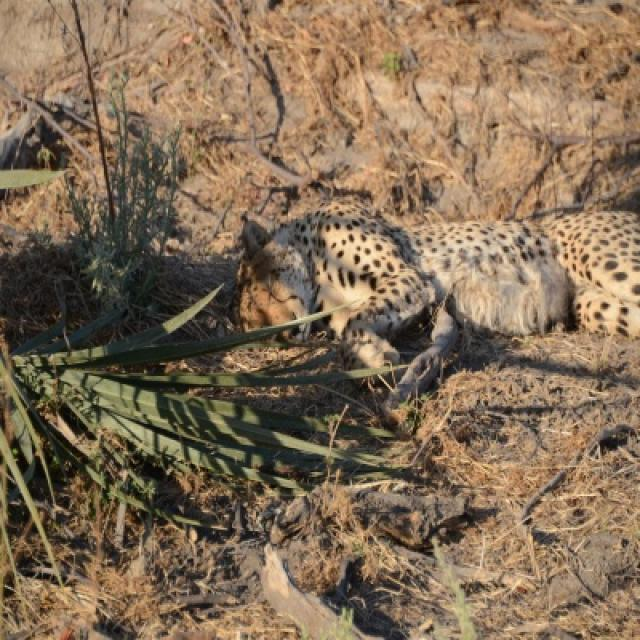Cheetah: (234, 202, 638, 408)
